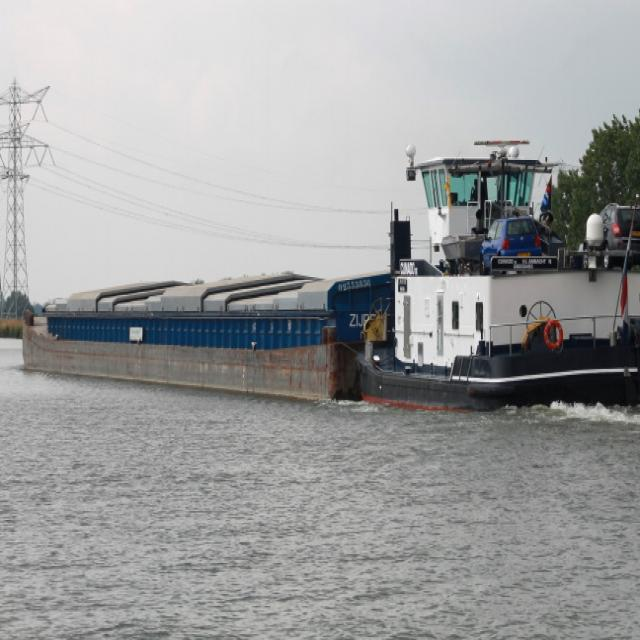tugboat: (360, 134, 640, 445)
